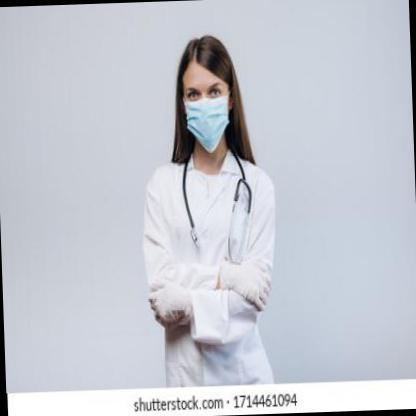Gloves: (218, 256, 272, 312), (150, 278, 194, 330)
